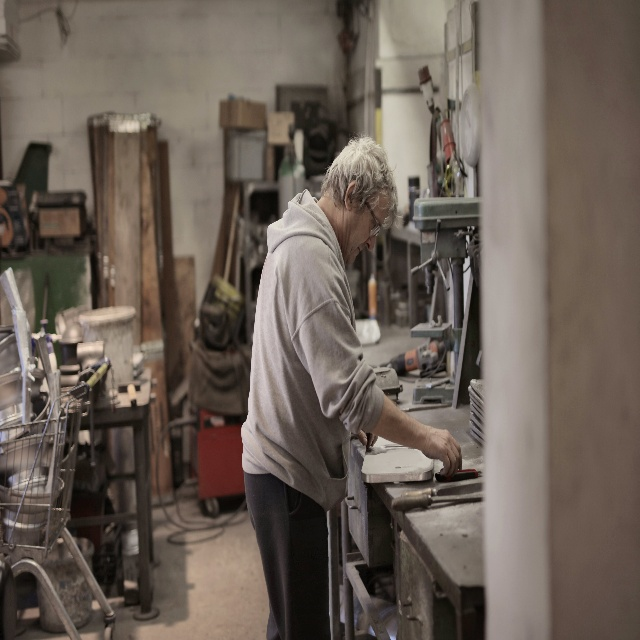Gafas: (365, 195, 381, 236)
Sin_guantes: (422, 424, 463, 475), (355, 425, 378, 451)
